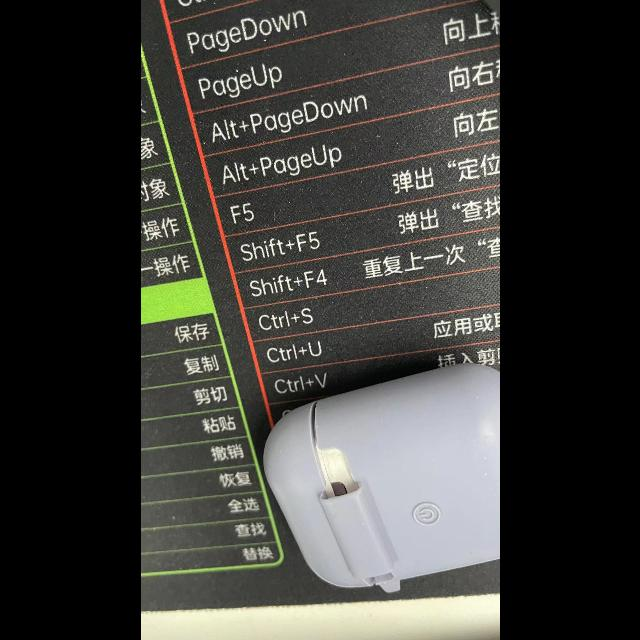airpods: (261, 361, 500, 595)
